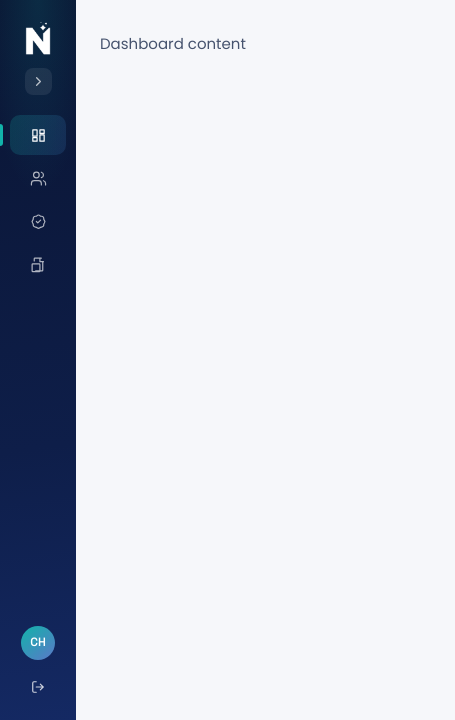
Test: HrLayout sidebar › expands again from the rail
Click the button named "Expand navigation": x=38, y=82 [24,68,52,95]
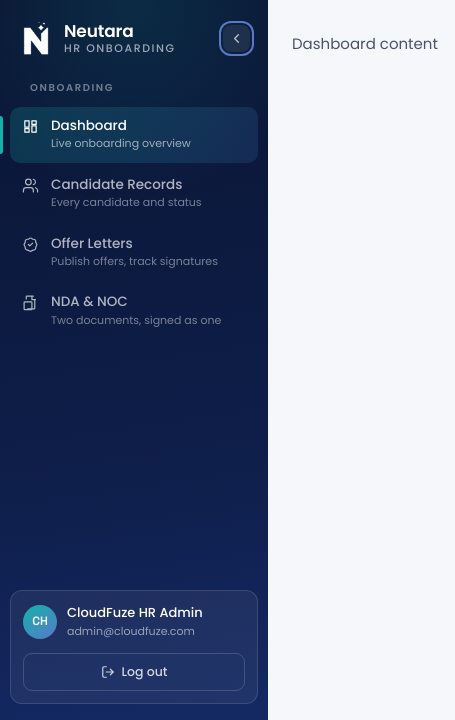
Expected: the text "Publish offers, track signatures" is shown, [51,253,218,270]
